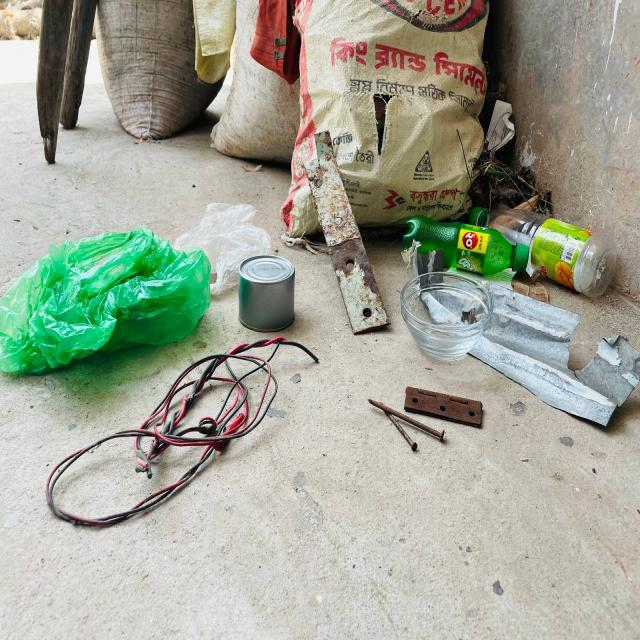Cable: (34, 350, 317, 556)
Glass: (404, 254, 493, 368)
Metal: (350, 368, 512, 489), (495, 294, 640, 429), (301, 133, 391, 340)
Plastics: (410, 184, 620, 291)
can: (242, 247, 316, 338)
